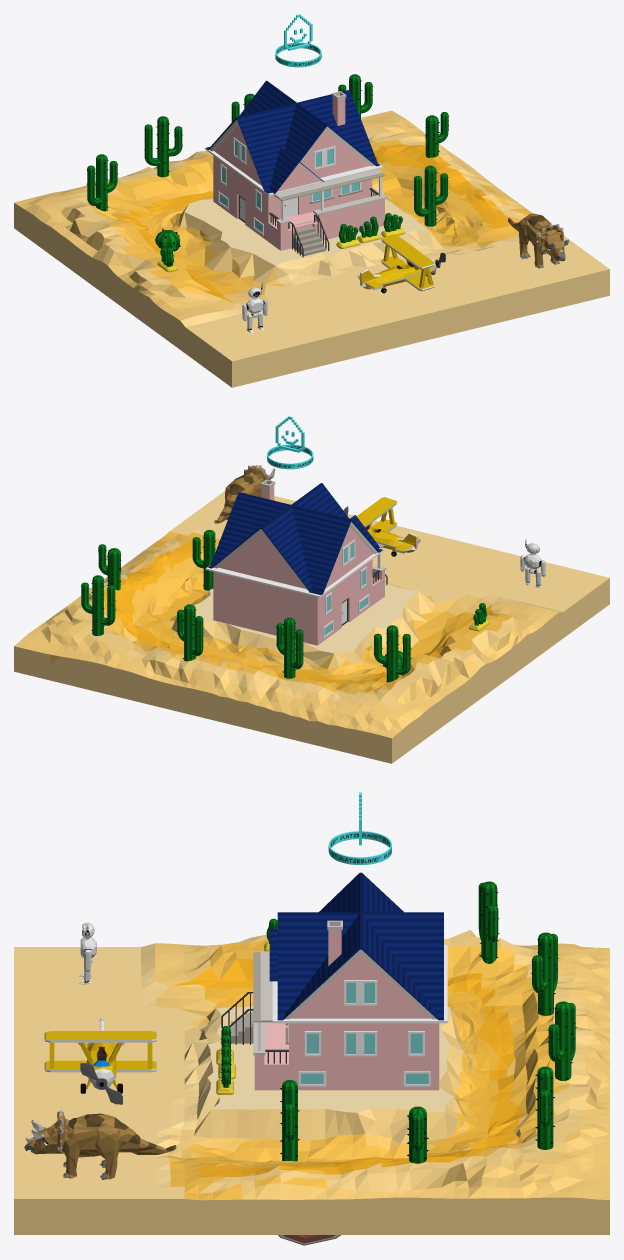
The picture shows the model from 3 angles, top to bottom: view 1: azimuth 30°, elevation 25°; view 2: azimuth 150°, elevation 25°; view 3: azimuth 270°, elevation 25°; orthographic projection. The views are drawn at different scales.
Parts seen in each view (by area): view 1: Cube.001, Cube.313, VEHICLES_AIRPLANE, ANIMAL_Triceratops, Cylinder.044, Cylinder.037, Cylinder.045, TYPE_PREMIUM, Cylinder.038, OBJRANDOM_PLATZEEBOT, Cylinder.042; view 2: Cube.001, Cube.313, VEHICLES_AIRPLANE, Cylinder.042, Cylinder.045, Cylinder.044, ANIMAL_Triceratops, Cylinder.043, TYPE_PREMIUM, Cylinder.037, Cylinder.038, OBJRANDOM_PLATZEEBOT; view 3: Cube.001, Cube.313, ANIMAL_Triceratops, VEHICLES_AIRPLANE, Cylinder.043, Cylinder.044, Cylinder.045, Cylinder.042, Cylinder.037, TYPE_PREMIUM, Cylinder.038, OBJRANDOM_PLATZEEBOT.
Boxes of the visible parts, <box> form: Cube.001: <box>14,110,609,387</box>; Cube.313: <box>205,80,387,257</box>; VEHICLES_AIRPLANE: <box>357,234,445,293</box>; ANIMAL_Triceratops: <box>508,213,568,268</box>; Cylinder.044: <box>144,116,182,177</box>; Cylinder.037: <box>413,165,448,226</box>; Cylinder.045: <box>86,154,117,211</box>; TYPE_PREMIUM: <box>275,14,321,67</box>; Cylinder.038: <box>425,112,448,157</box>; OBJRANDOM_PLATZEEBOT: <box>242,283,267,333</box>; Cylinder.042: <box>338,74,373,118</box>; Cube.001: <box>14,491,609,763</box>; Cube.313: <box>205,479,387,645</box>; VEHICLES_AIRPLANE: <box>343,497,420,556</box>; Cylinder.042: <box>81,575,115,635</box>; Cylinder.045: <box>373,625,411,682</box>; Cylinder.044: <box>276,617,303,678</box>; ANIMAL_Triceratops: <box>214,465,275,523</box>; Cylinder.043: <box>177,604,203,661</box>; TYPE_PREMIUM: <box>267,416,313,469</box>; Cylinder.037: <box>192,530,219,590</box>; Cylinder.038: <box>98,544,121,590</box>; OBJRANDOM_PLATZEEBOT: <box>520,539,545,587</box>; Cube.001: <box>14,930,609,1234</box>; Cube.313: <box>221,872,447,1090</box>; ANIMAL_Triceratops: <box>24,1109,176,1179</box>; VEHICLES_AIRPLANE: <box>44,1018,157,1104</box>; Cylinder.043: <box>547,1001,576,1080</box>; Cylinder.044: <box>531,932,558,1015</box>; Cylinder.045: <box>478,881,499,963</box>; Cylinder.042: <box>535,1066,554,1149</box>; Cylinder.037: <box>280,1080,299,1161</box>; TYPE_PREMIUM: <box>328,792,391,864</box>; Cylinder.038: <box>407,1106,428,1163</box>; OBJRANDOM_PLATZEEBOT: <box>78,922,96,984</box>.
Bounding box in the file's own units: 4002 × 3154 × 4001.
Materials: 44 (3 with a texture image).
